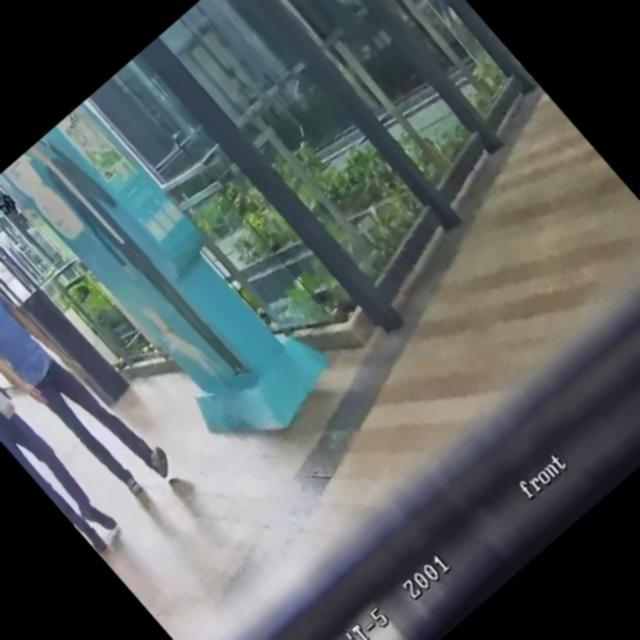person: (0, 221, 179, 516), (0, 271, 126, 555)
